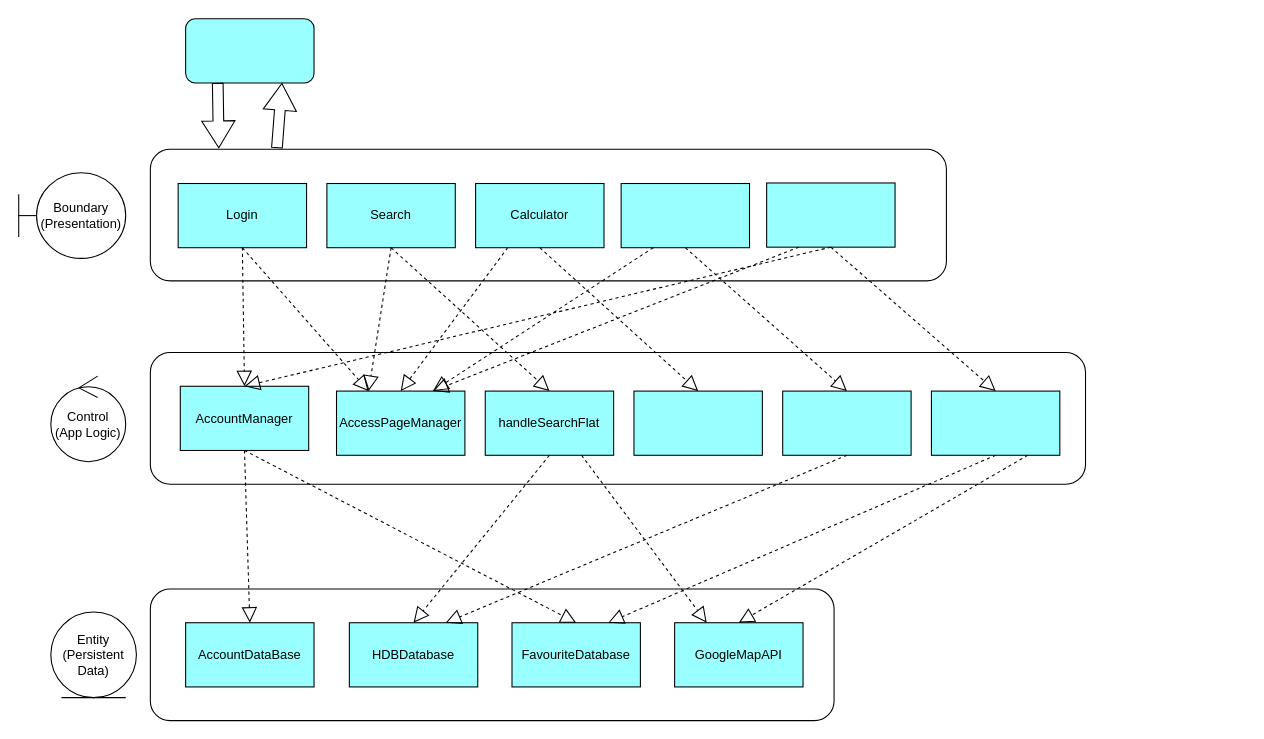
The diagram is 1264 pixels wide and 739 high, and some of its shapes have lost their labels. Here are the shapes that lost their labels. From the top down, the box of each, then its label:
(185, 18, 314, 83): User
(620, 182, 750, 248): Comparison
(766, 182, 895, 247): Favourite
(633, 390, 762, 455): handleCalculation
(782, 390, 911, 455): handleComparison
(930, 390, 1060, 455): handleFavourite
